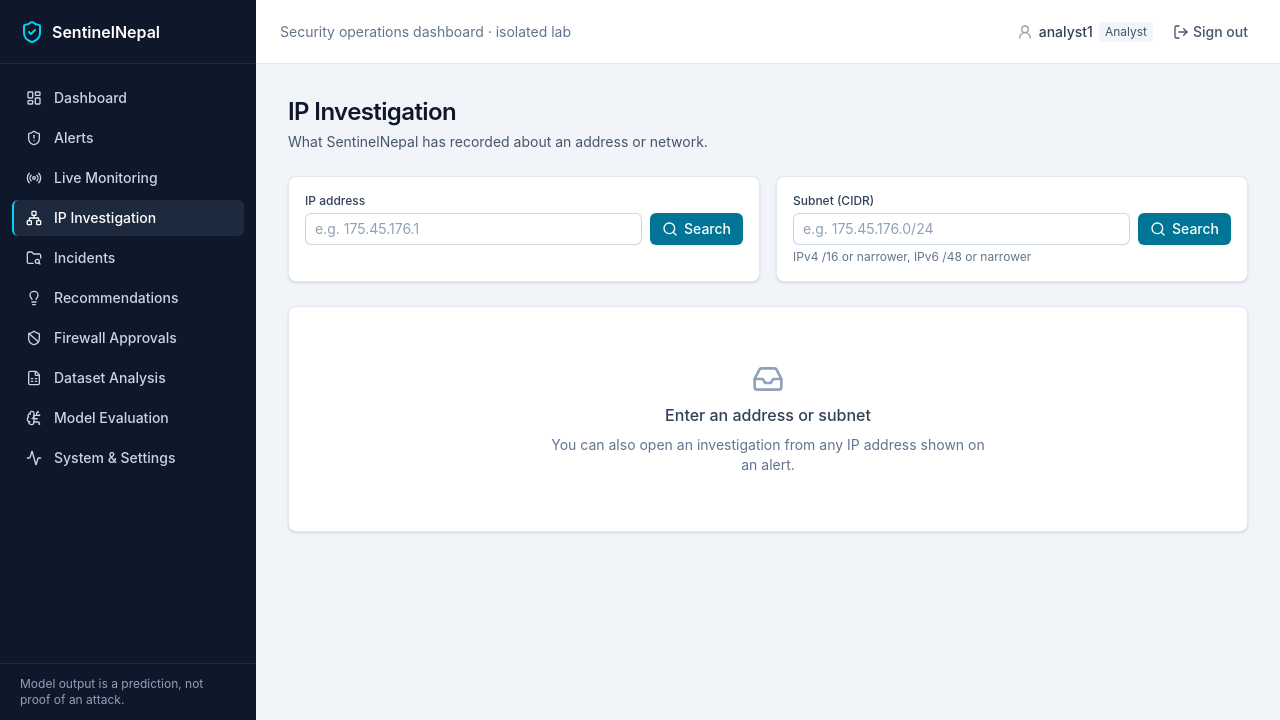
it: IP investigation › summarises stored alerts for an address without external enrichment
Type "192.0.2.10" into the field labelled "IP address" at (474, 229), box [305,213,642,245]
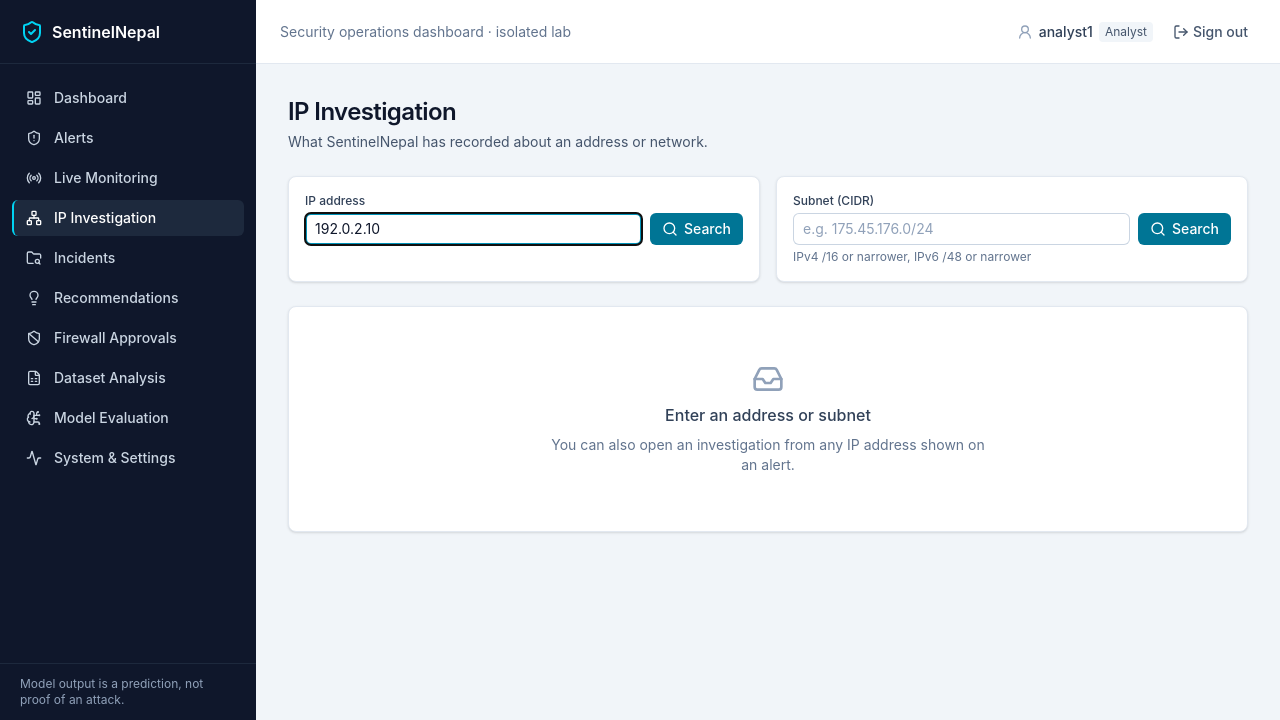
Click the button with aria-label "Investigate address" at (696, 229), box [650,213,743,245]
(page scrolled)
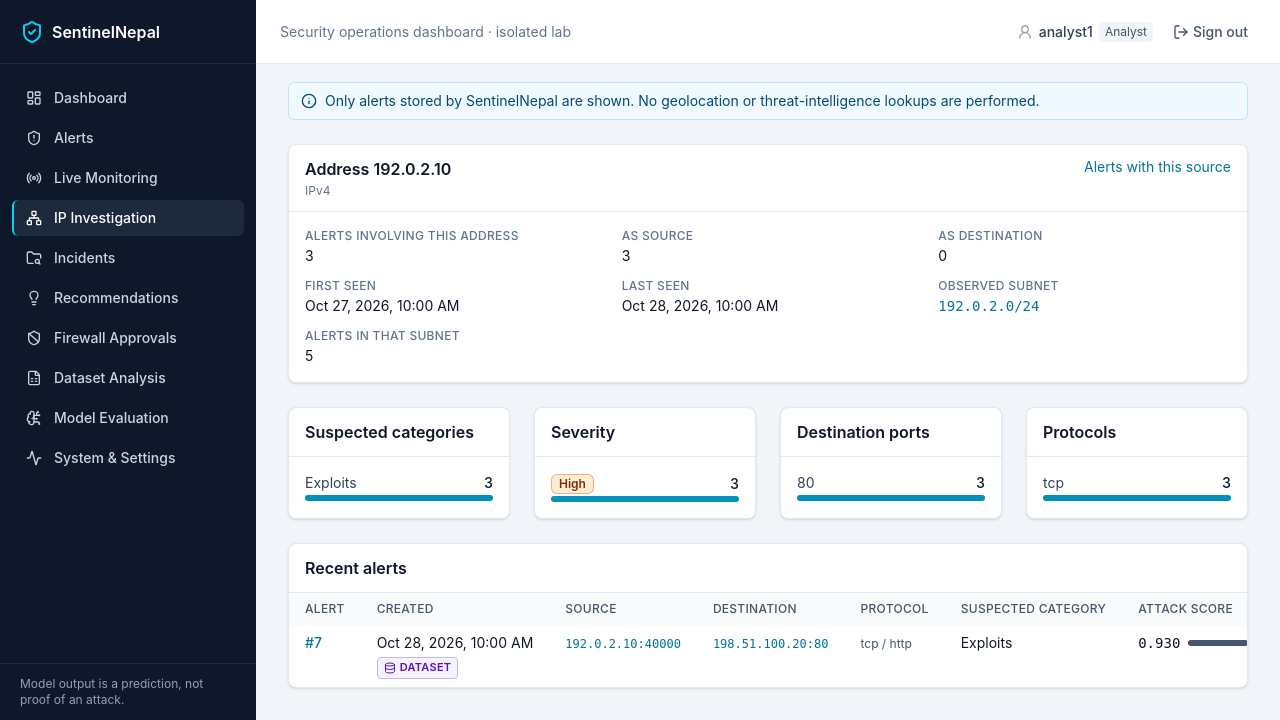
Expected: the heading "Address 192.0.2.10" is shown, [305,157,451,181]
Expected: the text "No geolocation or threat-intelligence lookups" is shown, [325,92,1040,109]
Expected: the table named "Recent alerts involving 192.0.2.10" is shown, [289,593,1247,687]
